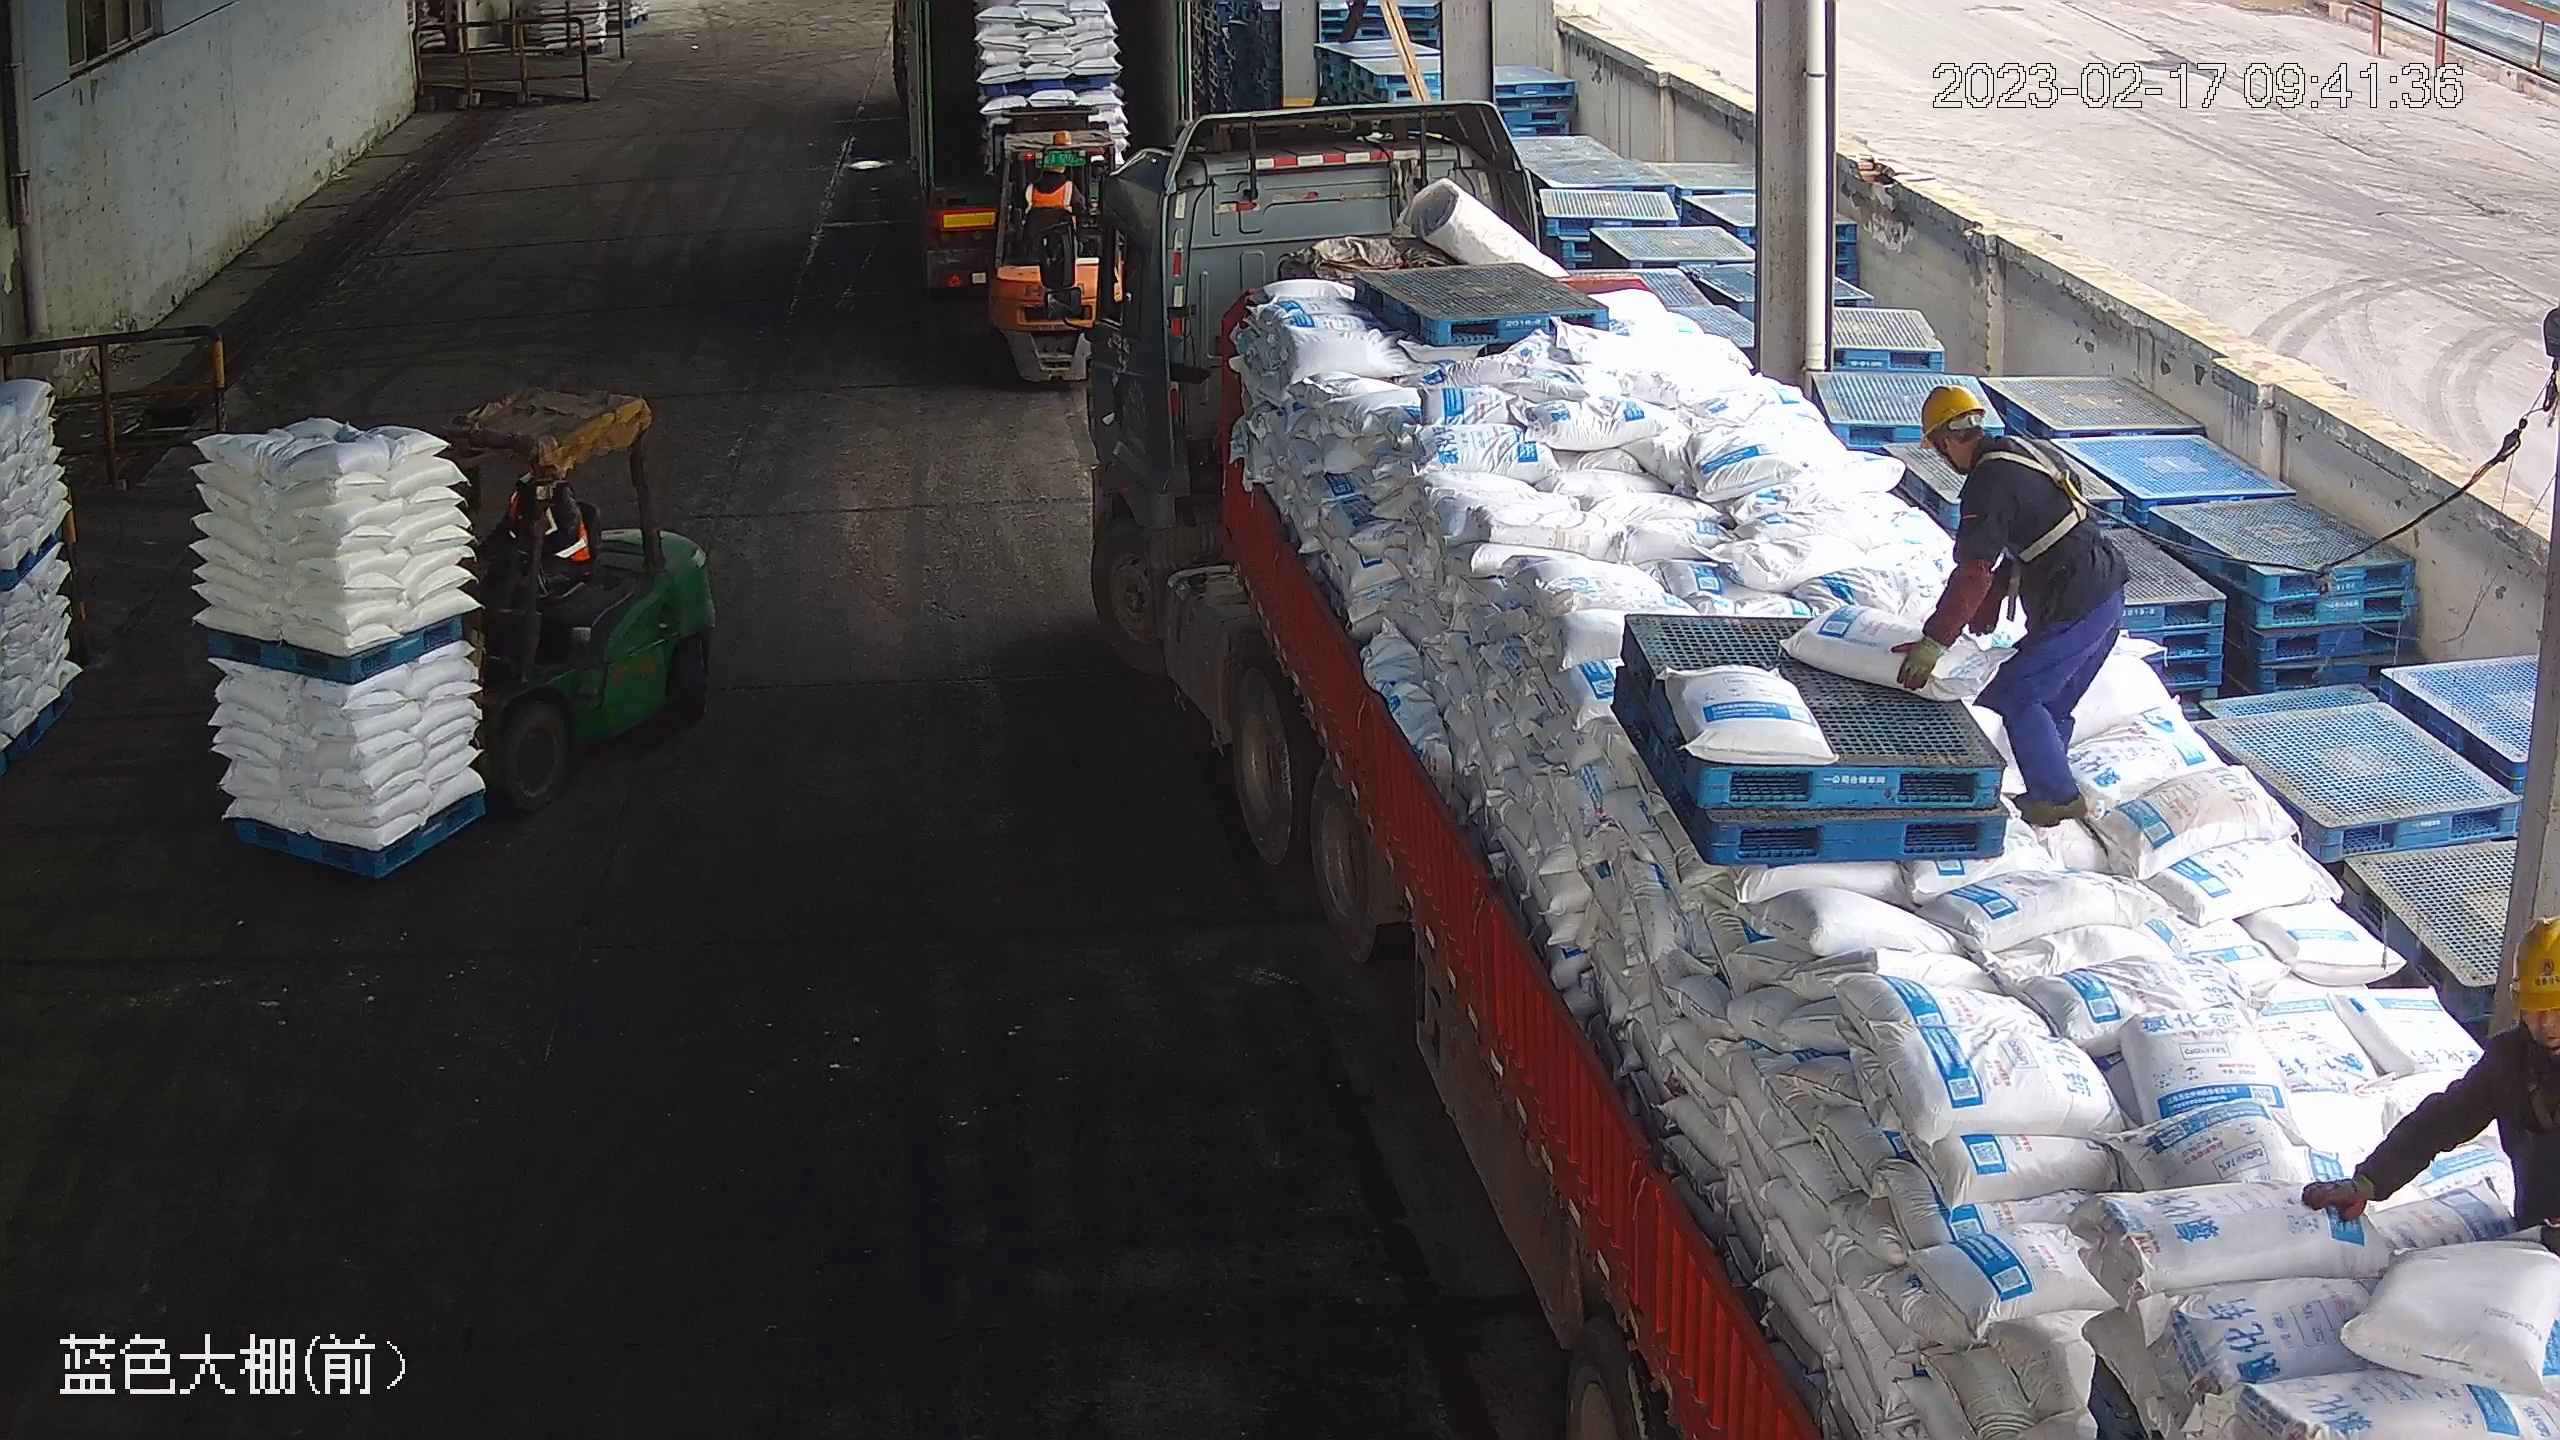belt: (1981, 437, 2098, 562)
head: (1917, 382, 2064, 501), (2478, 912, 2560, 1109)
helmet: (2507, 911, 2559, 1014), (1917, 382, 1991, 443)
people: (2300, 913, 2560, 1429), (1896, 380, 2129, 843)
truck: (1035, 98, 2554, 1440), (891, 1, 1181, 298)
